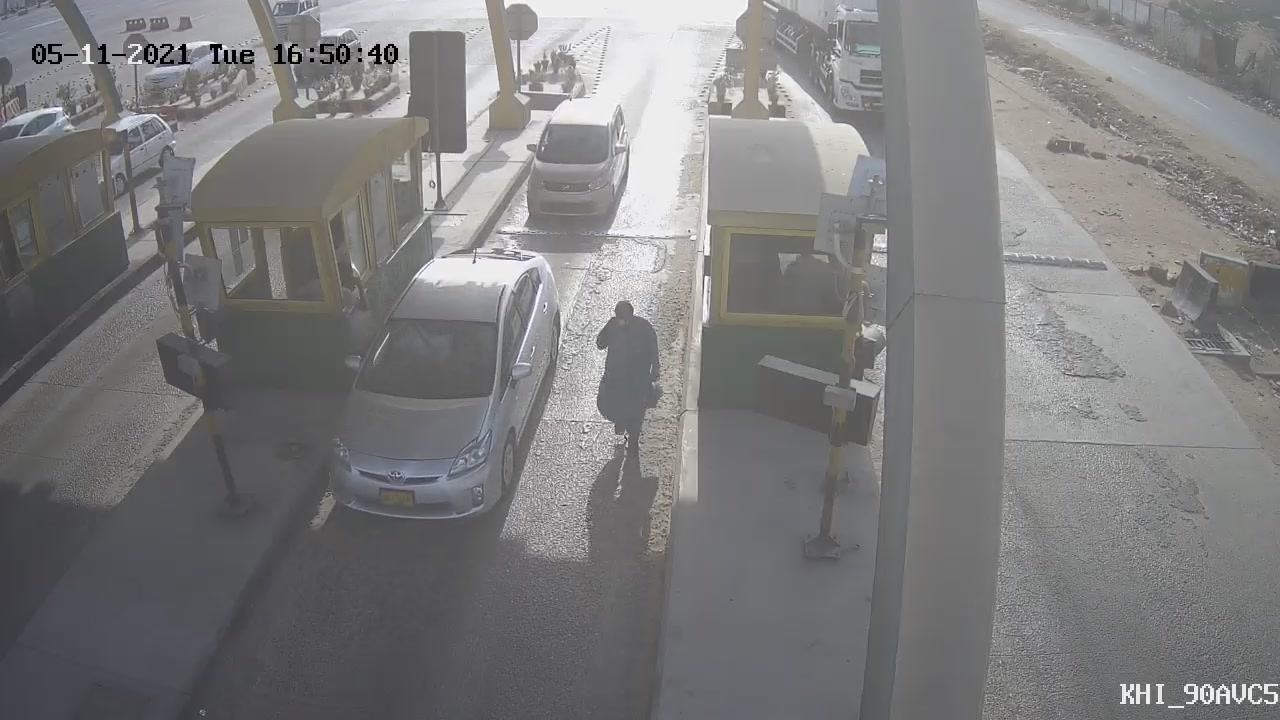F1: (309, 233, 578, 547), (501, 77, 647, 247)
